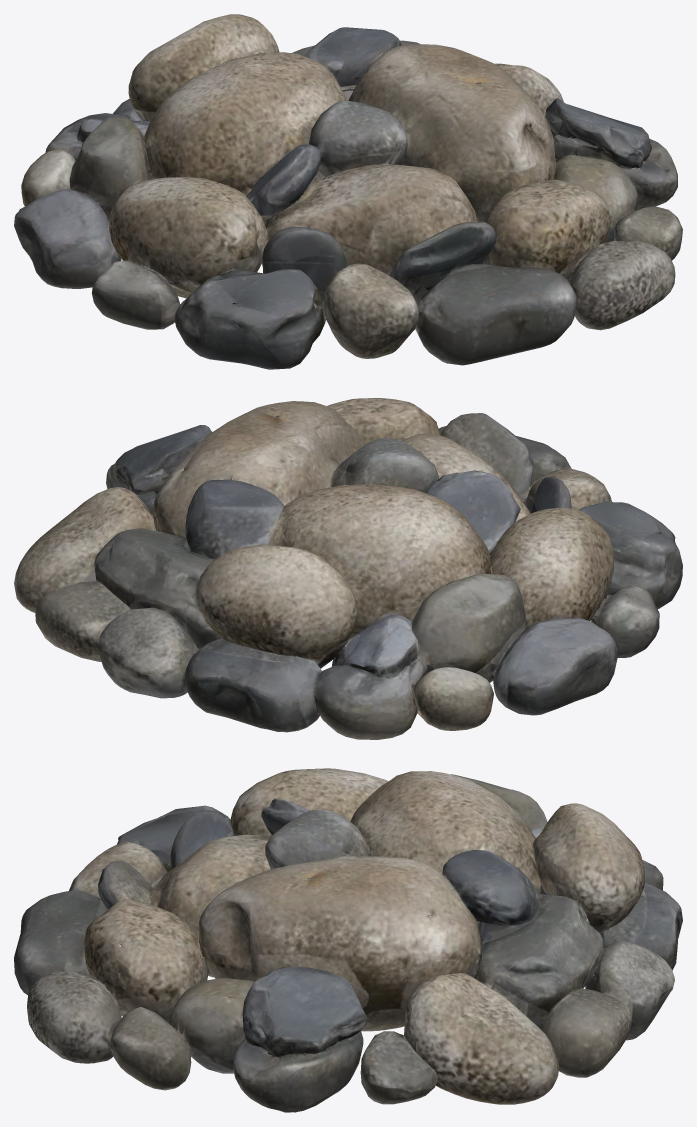
Rendered from river-gravel-v5-lod.glb.
3 renders of one model, top to bottom at view 1: azimuth 30°, elevation 25°; view 2: azimuth 150°, elevation 25°; view 3: azimuth 270°, elevation 25°, orthographic. The views are drawn at different scales.
Visible parts, largest first — view 1: geometry_0; view 2: geometry_0; view 3: geometry_0.
Part boxes in pixels (x1=…): geometry_0: x1=14, y1=14, x2=682, y2=369; geometry_0: x1=14, y1=398, x2=682, y2=739; geometry_0: x1=14, y1=768, x2=682, y2=1112.
Size of the model in its own units: 0.3497 by 0.0973 by 0.3495.
1 material, 1 textured.
